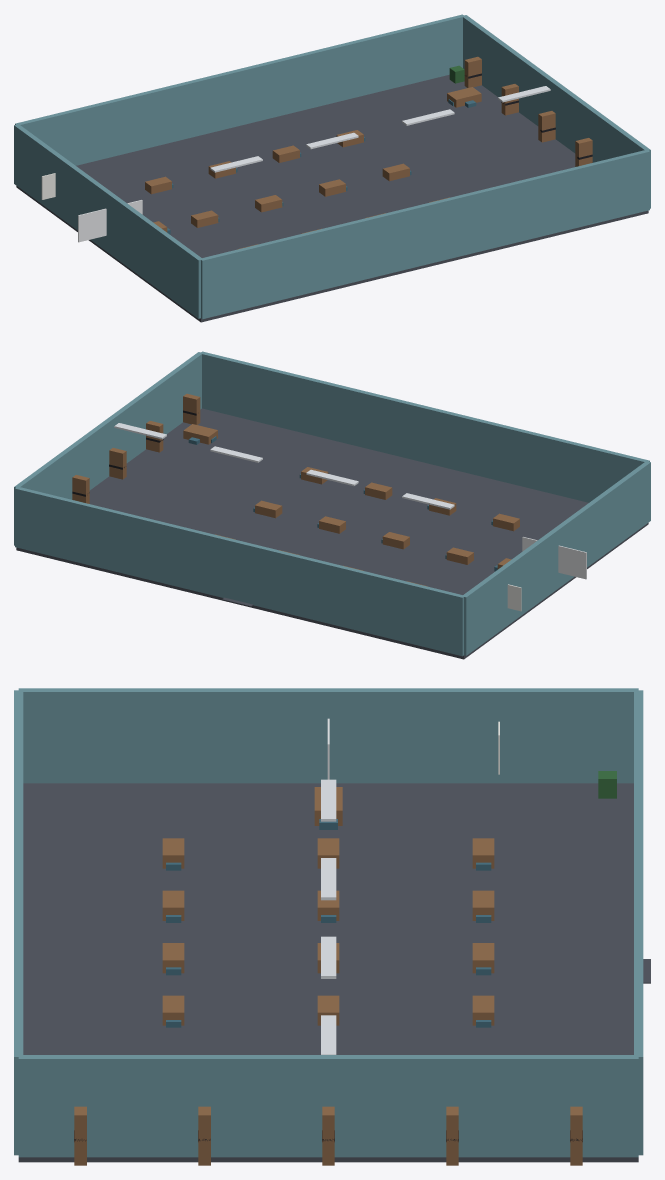
The model's file is Academic_Level.fbx.
The picture shows the model from 3 angles, top to bottom: view 1: azimuth 30°, elevation 25°; view 2: azimuth 150°, elevation 25°; view 3: azimuth 270°, elevation 25°; orthographic projection. The views are drawn at different scales.
Parts seen in each view (by area): view 1: Academic_Floor, Academic_Wall_N, Academic_Wall_S, Academic_Wall_W, Academic_Wall_E, Whiteboard, Bookshelf_-800, Bookshelf_0, StudyTable_-650_1200, Bookshelf_400; view 2: Academic_Floor, Academic_Wall_S, Academic_Wall_N, Academic_Wall_W, Academic_Wall_E, Whiteboard, Bookshelf_0, Bookshelf_800, StudyTable_650_1200, Bookshelf_-400; view 3: Academic_Floor, Academic_Wall_E, Academic_Wall_W, Academic_Wall_S, Academic_Wall_N, Bookshelf_-800, Bookshelf_-400, Bookshelf_0, Bookshelf_400, Bookshelf_800, Academic_CeilingLight_1, Academic_CeilingLight_2 (+1 smaller).
Part boxes in pixels (x1,y1,x2,y2): Academic_Floor: (16, 74, 648, 322); Academic_Wall_N: (200, 149, 649, 319); Academic_Wall_S: (15, 14, 464, 165); Academic_Wall_W: (14, 124, 201, 318); Academic_Wall_E: (463, 15, 650, 208); Whiteboard: (78, 200, 142, 242); Bookshelf_-800: (464, 56, 481, 87); Bookshelf_0: (538, 111, 555, 142); StudyTable_-650_1200: (447, 87, 481, 107); Bookshelf_400: (575, 138, 592, 166); Academic_Floor: (16, 408, 648, 659); Academic_Wall_S: (15, 486, 464, 656); Academic_Wall_N: (200, 351, 649, 502); Academic_Wall_W: (463, 461, 650, 655); Academic_Wall_E: (14, 352, 201, 545); Whiteboard: (522, 537, 586, 579); Bookshelf_0: (109, 448, 126, 479); Bookshelf_800: (183, 393, 200, 424); StudyTable_650_1200: (183, 424, 217, 444); Bookshelf_-400: (72, 475, 89, 503); Academic_Floor: (18, 783, 638, 1162); Academic_Wall_E: (18, 1055, 638, 1157); Academic_Wall_W: (18, 688, 638, 783); Academic_Wall_S: (634, 690, 643, 1155); Academic_Wall_N: (14, 690, 23, 1155); Bookshelf_-800: (570, 1106, 582, 1165); Bookshelf_-400: (446, 1106, 458, 1165); Bookshelf_0: (322, 1106, 334, 1165); Bookshelf_400: (198, 1106, 210, 1165); Bookshelf_800: (74, 1106, 86, 1165); Academic_CeilingLight_1: (321, 779, 336, 821); Academic_CeilingLight_2: (321, 858, 336, 900).
Size of what is drawn, in the model's own units: 3070 by 2055 by 375.
